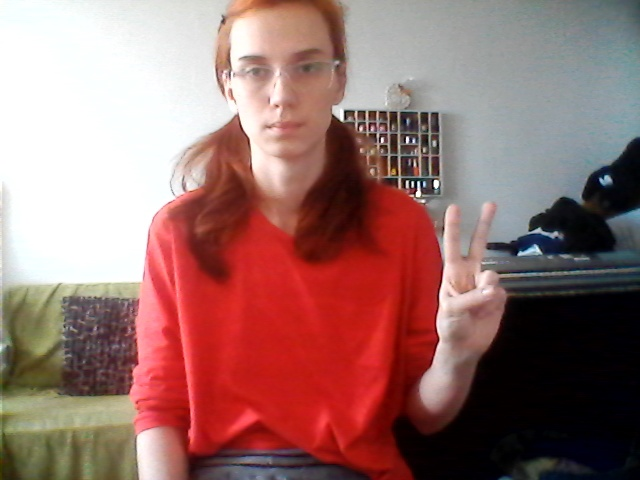v: (416, 191, 515, 357)
